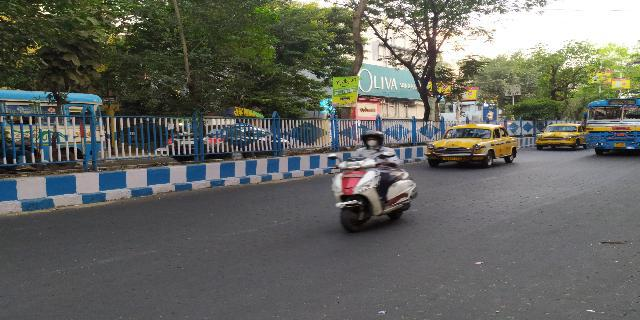Bus: (582, 97, 640, 158)
Car: (421, 119, 520, 163), (531, 116, 584, 151)
Motorbike: (332, 127, 429, 235)
